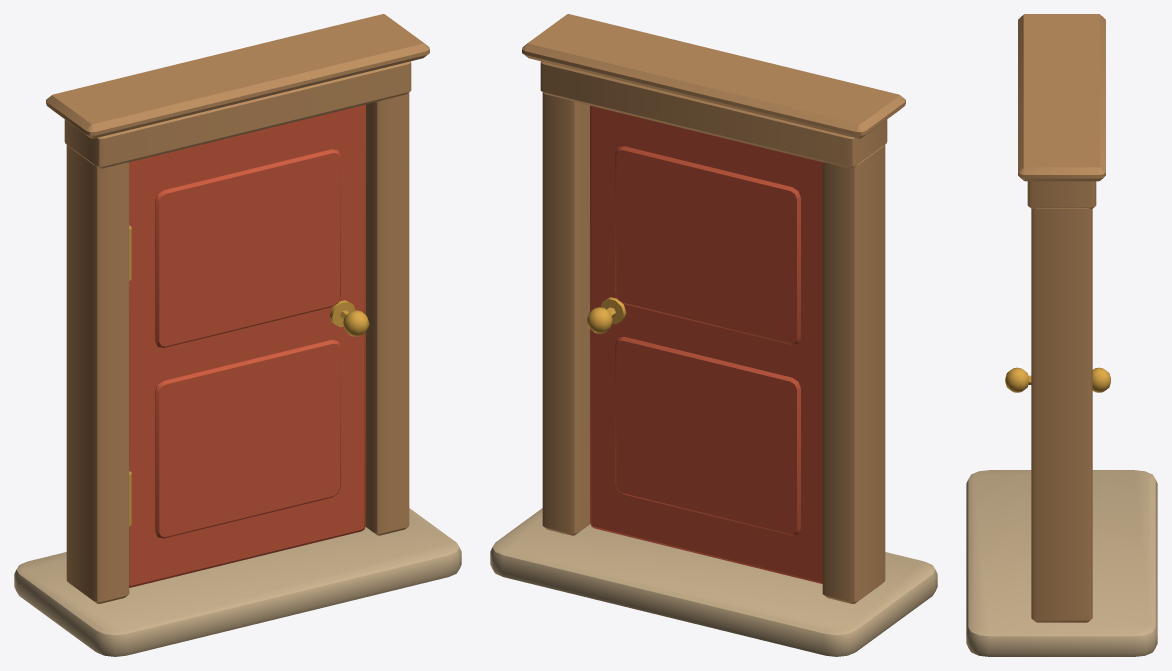
The model's file is door.glb.
3 views of the same model, side by side, from view 1: azimuth 30°, elevation 25°; view 2: azimuth 150°, elevation 25°; view 3: azimuth 270°, elevation 25° (orthographic). The views are drawn at different scales.
Parts seen in each view (by area): view 1: Frame, Leaf, Knob; view 2: Frame, Leaf, Knob; view 3: Frame, Knob.
Part boxes in pixels (left/top/right/bottom): Frame: left=14, top=14, right=461, bottom=656; Leaf: left=129, top=104, right=365, bottom=587; Knob: left=329, top=300, right=369, bottom=336; Frame: left=490, top=14, right=937, bottom=656; Leaf: left=590, top=105, right=822, bottom=583; Knob: left=586, top=297, right=626, bottom=333; Frame: left=966, top=14, right=1157, bottom=656; Knob: left=1005, top=367, right=1110, bottom=392.
Size of the model in its own units: 0.104 by 0.14 by 0.05.
